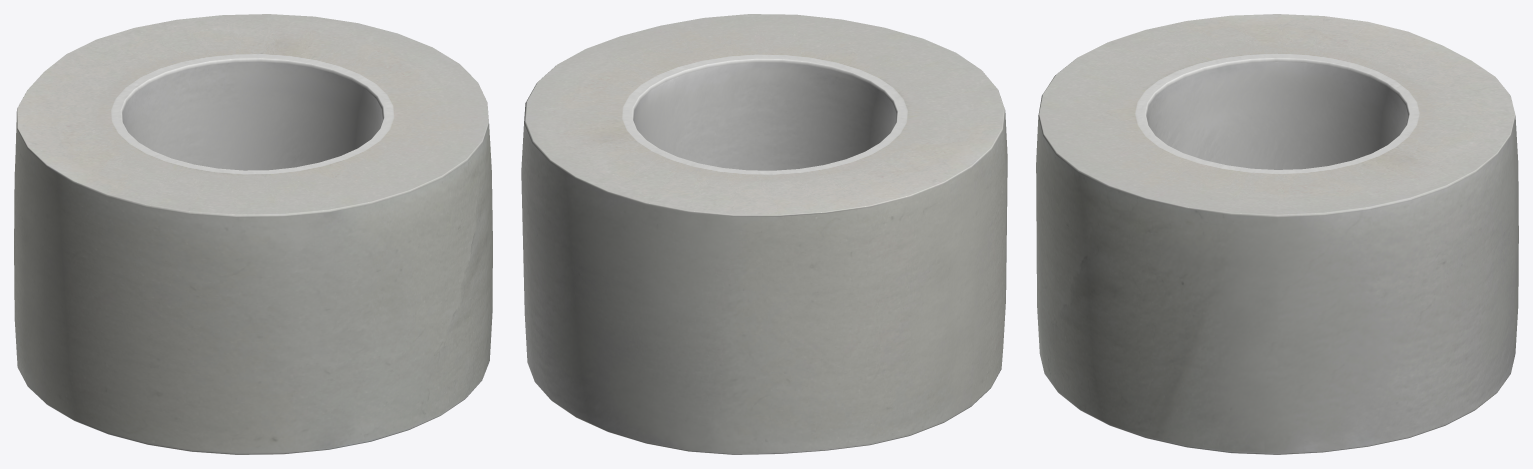
File: medical_tape_4k.gltf
3 views of the same model, side by side, from view 1: azimuth 30°, elevation 25°; view 2: azimuth 150°, elevation 25°; view 3: azimuth 270°, elevation 25° (orthographic).
Visible parts, largest first — view 1: medical_tape; view 2: medical_tape; view 3: medical_tape.
Boxes of the visible parts, x1=… form: medical_tape: x1=14, y1=14, x2=492, y2=454; medical_tape: x1=521, y1=14, x2=1007, y2=454; medical_tape: x1=1036, y1=14, x2=1518, y2=454.
Size of the model in its own units: 0.0453 by 0.025 by 0.0452.
Materials: 1 (1 with a texture image).
